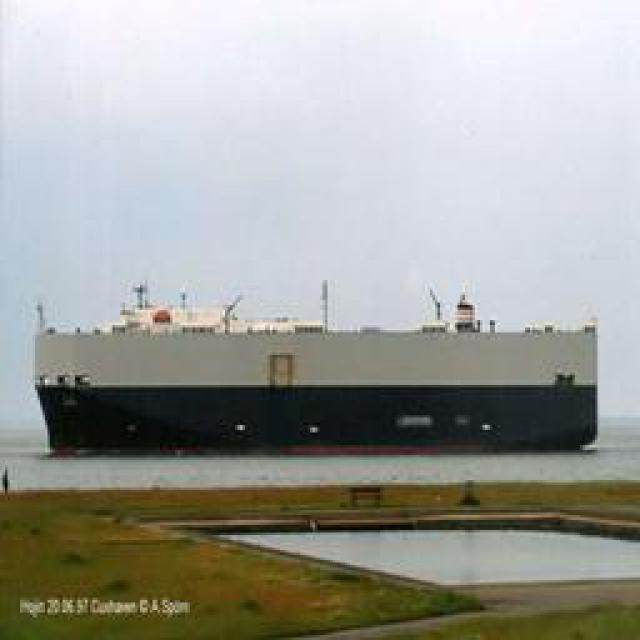Ship: (24, 286, 607, 456)
